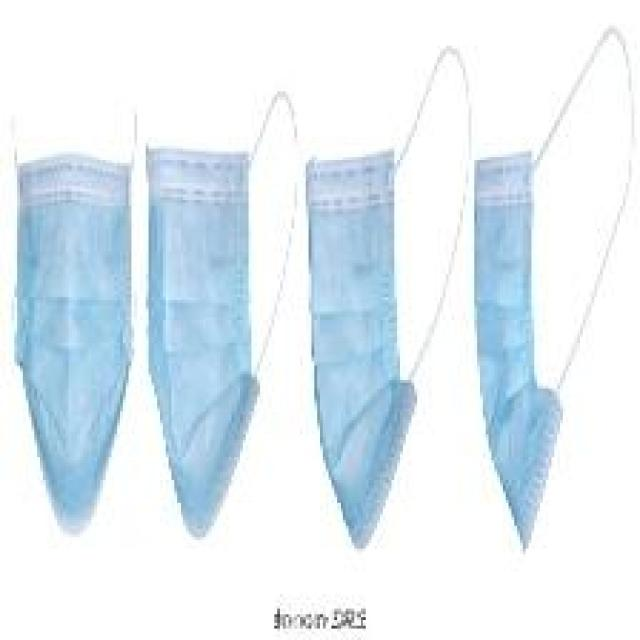Mask: (413, 112, 626, 555), (95, 100, 286, 531), (271, 106, 433, 570), (15, 135, 137, 537)
